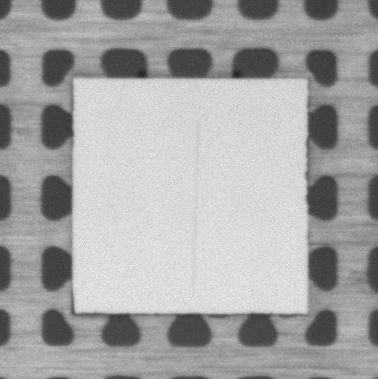DIE_CRACK: (192, 120, 197, 295)
